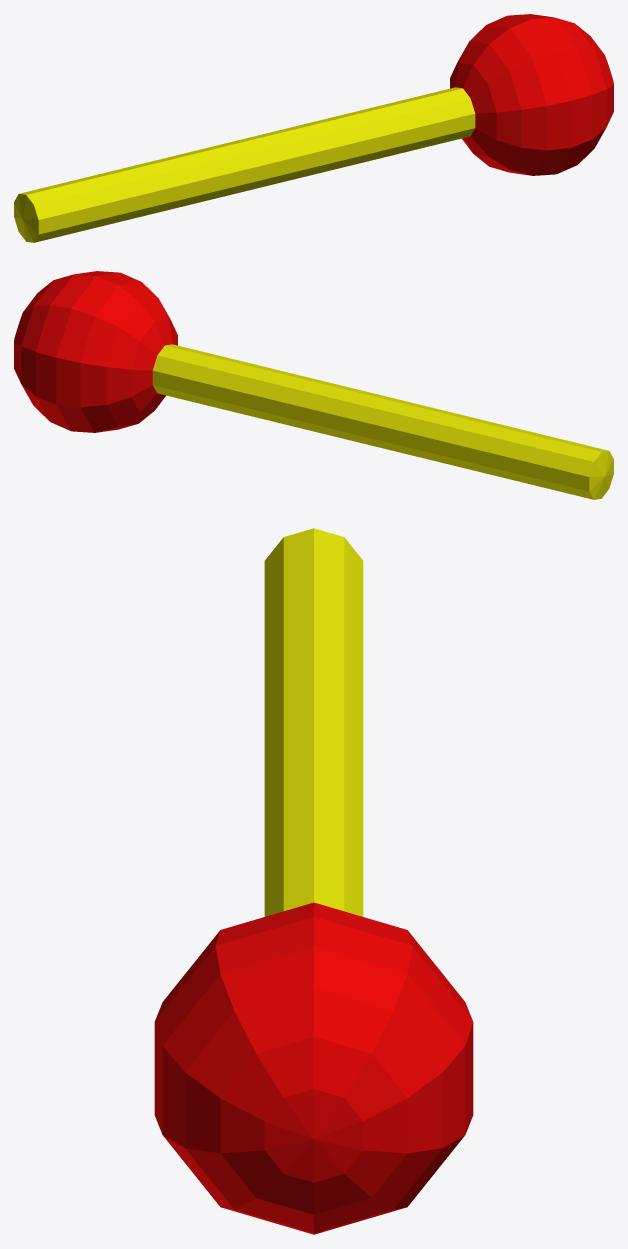
Rendered from Soap_Bullet.fbx.
3 renders of one model, top to bottom at view 1: azimuth 30°, elevation 25°; view 2: azimuth 150°, elevation 25°; view 3: azimuth 270°, elevation 25°, orthographic. The views are drawn at different scales.
Visible parts, largest first — view 1: Bullet; view 2: Bullet; view 3: Bullet.
Boxes of the visible parts, x1,y1,x2,y2 form: Bullet: (14, 14, 613, 242); Bullet: (14, 271, 613, 499); Bullet: (154, 528, 473, 1234).
Size of the model in its own units: 8.02 by 2 by 1.9.
